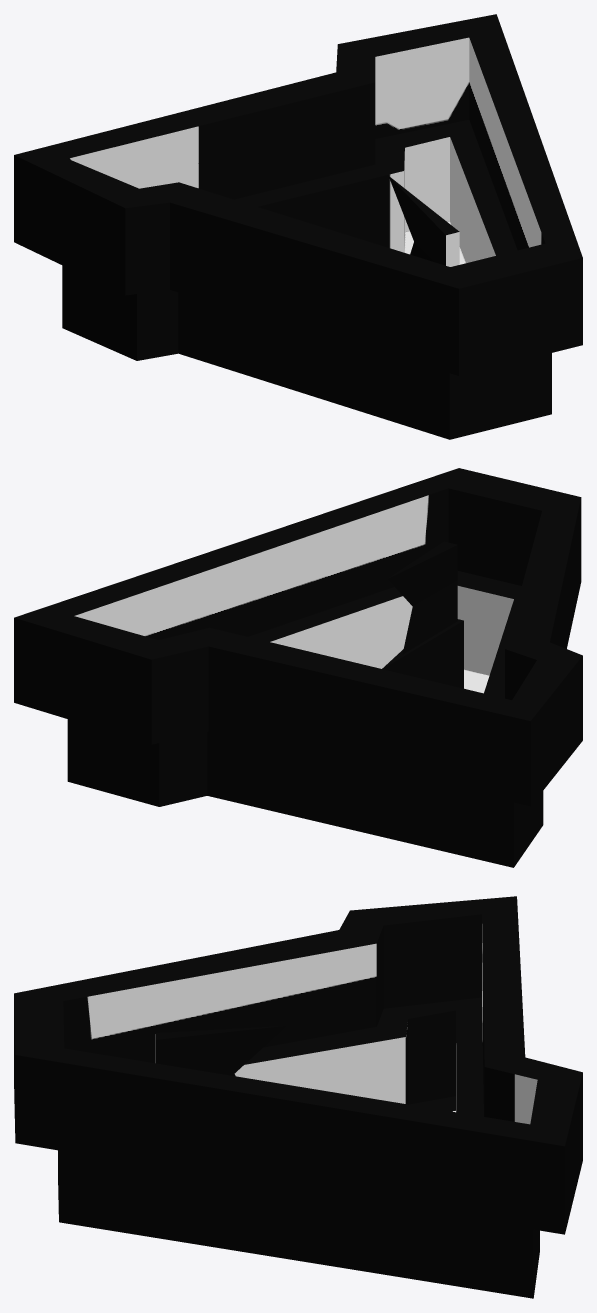
The model's file is level1-4.fbx.
3 views of the same model, one above another, from view 1: azimuth 30°, elevation 25°; view 2: azimuth 150°, elevation 25°; view 3: azimuth 270°, elevation 25° (orthographic). The views are drawn at different scales.
Visible parts, largest first — view 1: 1-4_upper_wall, 1-4_lower_wall, 1-4_magenta_top; view 2: 1-4_upper_wall, 1-4_lower_wall, 1-4_magenta_top, 1-4_magenta; view 3: 1-4_upper_wall, 1-4_lower_wall, 1-4_magenta_top.
Part boxes in pixels (x1,y1,x2,y2): 1-4_upper_wall: [14, 14, 582, 375]; 1-4_lower_wall: [62, 119, 551, 439]; 1-4_magenta_top: [388, 176, 459, 266]; 1-4_upper_wall: [14, 468, 582, 806]; 1-4_lower_wall: [67, 571, 543, 867]; 1-4_magenta_top: [388, 541, 457, 654]; 1-4_magenta: [382, 619, 463, 688]; 1-4_upper_wall: [14, 896, 582, 1234]; 1-4_lower_wall: [58, 997, 539, 1298]; 1-4_magenta_top: [155, 1026, 285, 1076].
Bounding box in the file's own units: 23.38 × 7.64 × 22.47.
Materials: 5 (5 with a texture image).
